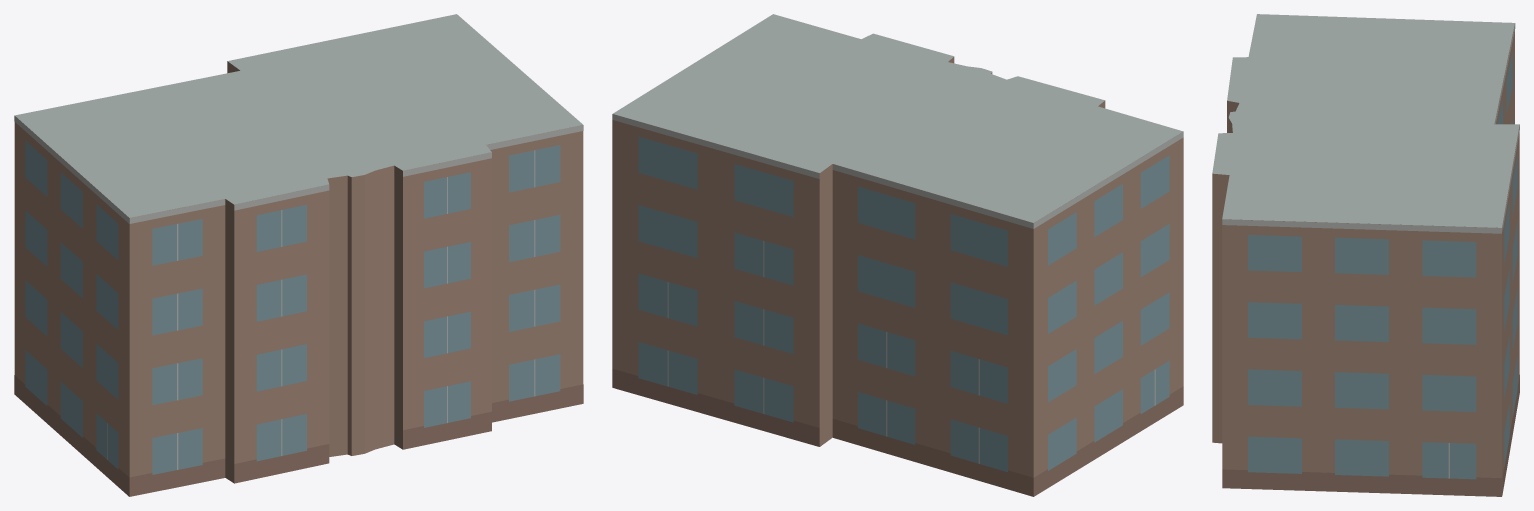
File: survey-upis-32826893.glb
3 views of the same model, side by side, from view 1: azimuth 30°, elevation 25°; view 2: azimuth 150°, elevation 25°; view 3: azimuth 270°, elevation 25° (orthographic). The views are drawn at different scales.
Visible parts, largest first — view 1: survey-upis-32826893.tmp; view 2: survey-upis-32826893.tmp; view 3: survey-upis-32826893.tmp.
Part boxes in pixels (x1,y1,x2,y2): survey-upis-32826893.tmp: (14, 14, 583, 496); survey-upis-32826893.tmp: (612, 14, 1183, 496); survey-upis-32826893.tmp: (1212, 14, 1519, 496).
Bounding box in the file's own units: 19.11 × 11.2 × 11.61.
